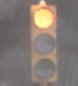Red: (25, 2, 60, 84)
